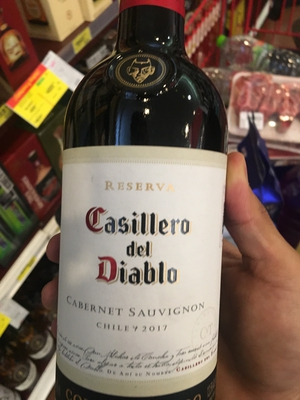casillero del diablo cabernet sauvignon: (60, 1, 232, 400)
